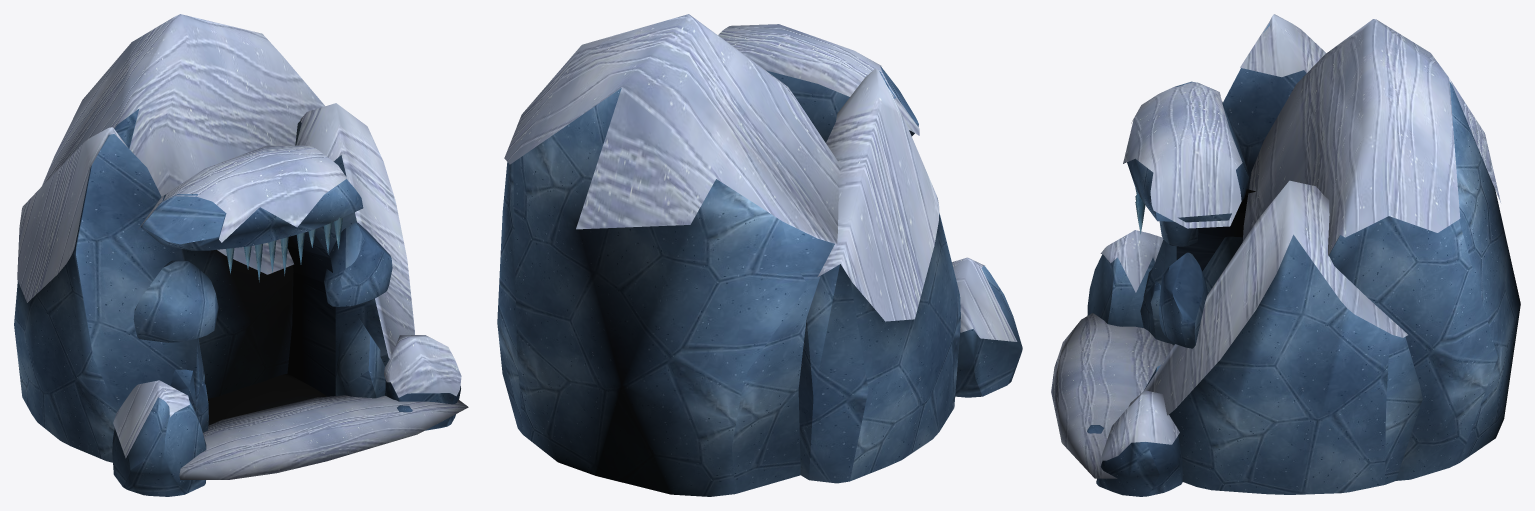
The model's file is cave_mouth_ice.glb.
3 renders of one model, left to right at view 1: azimuth 30°, elevation 25°; view 2: azimuth 150°, elevation 25°; view 3: azimuth 270°, elevation 25°, orthographic. The views are drawn at different scales.
Parts seen in each view (by area): view 1: cave_mouth_ice; view 2: cave_mouth_ice; view 3: cave_mouth_ice.
Boxes of the visible parts, box(x1,y1,x2,y2) form: cave_mouth_ice: box(14, 14, 468, 496); cave_mouth_ice: box(497, 14, 1022, 496); cave_mouth_ice: box(1051, 14, 1520, 496).
Bounding box in the file's own units: 3.15 × 3.1 × 3.39.
Materials: 4 (3 with a texture image).
